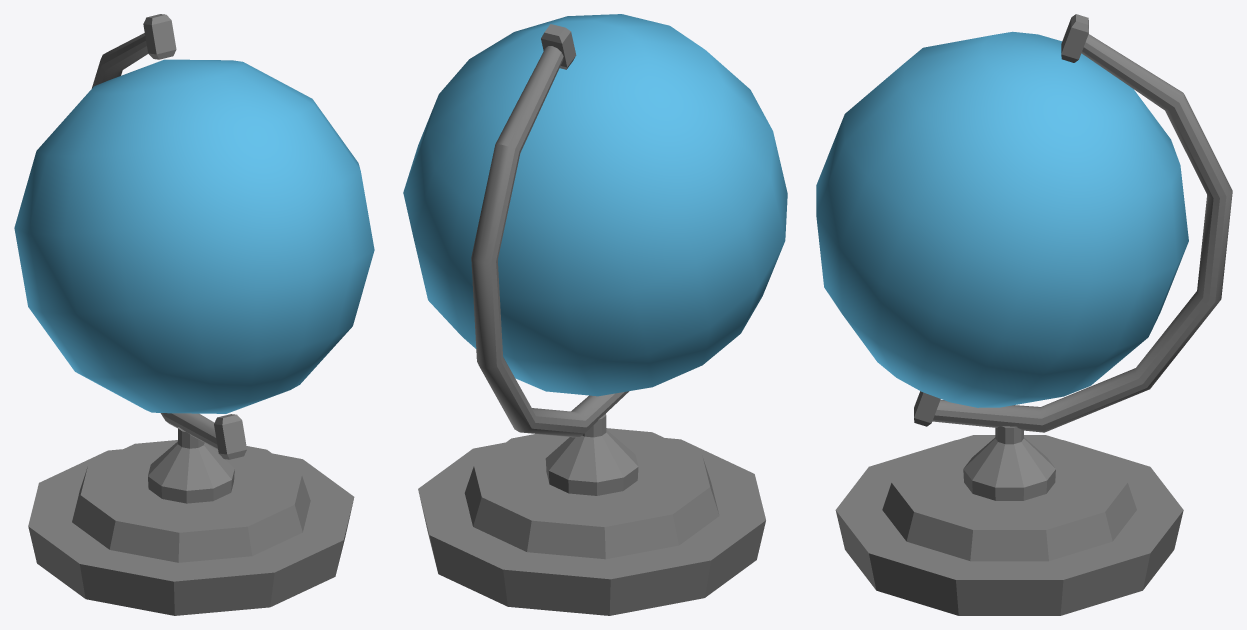
The model's file is OBANext_Ikendewereld_Globe.fbx.
3 renders of one model, left to right at view 1: azimuth 30°, elevation 25°; view 2: azimuth 150°, elevation 25°; view 3: azimuth 270°, elevation 25°, orthographic. The views are drawn at different scales.
Visible parts, largest first — view 1: Sphere, Cylinder.001, BezierCircle, Cube.001, Cube.002; view 2: Sphere, Cylinder.001, BezierCircle, Cube.002; view 3: Sphere, Cylinder.001, BezierCircle, Cube.002, Cube.001.
Boxes of the visible parts, x1=… form: Sphere: x1=14, y1=59, x2=374, y2=413; Cylinder.001: x1=28, y1=427, x2=354, y2=615; BezierCircle: x1=91, y1=33, x2=217, y2=449; Cube.001: x1=214, y1=414, x2=246, y2=459; Cube.002: x1=143, y1=14, x2=176, y2=59; Sphere: x1=403, y1=14, x2=787, y2=396; Cylinder.001: x1=418, y1=414, x2=765, y2=615; BezierCircle: x1=471, y1=46, x2=629, y2=437; Cube.002: x1=541, y1=24, x2=576, y2=69; Sphere: x1=816, y1=31, x2=1188, y2=407; Cylinder.001: x1=835, y1=426, x2=1183, y2=615; BezierCircle: x1=932, y1=34, x2=1232, y2=432; Cube.002: x1=1061, y1=14, x2=1088, y2=62; Cube.001: x1=914, y1=391, x2=940, y2=426.
Size of the model in its own units: 81.59 by 130 by 92.48.
